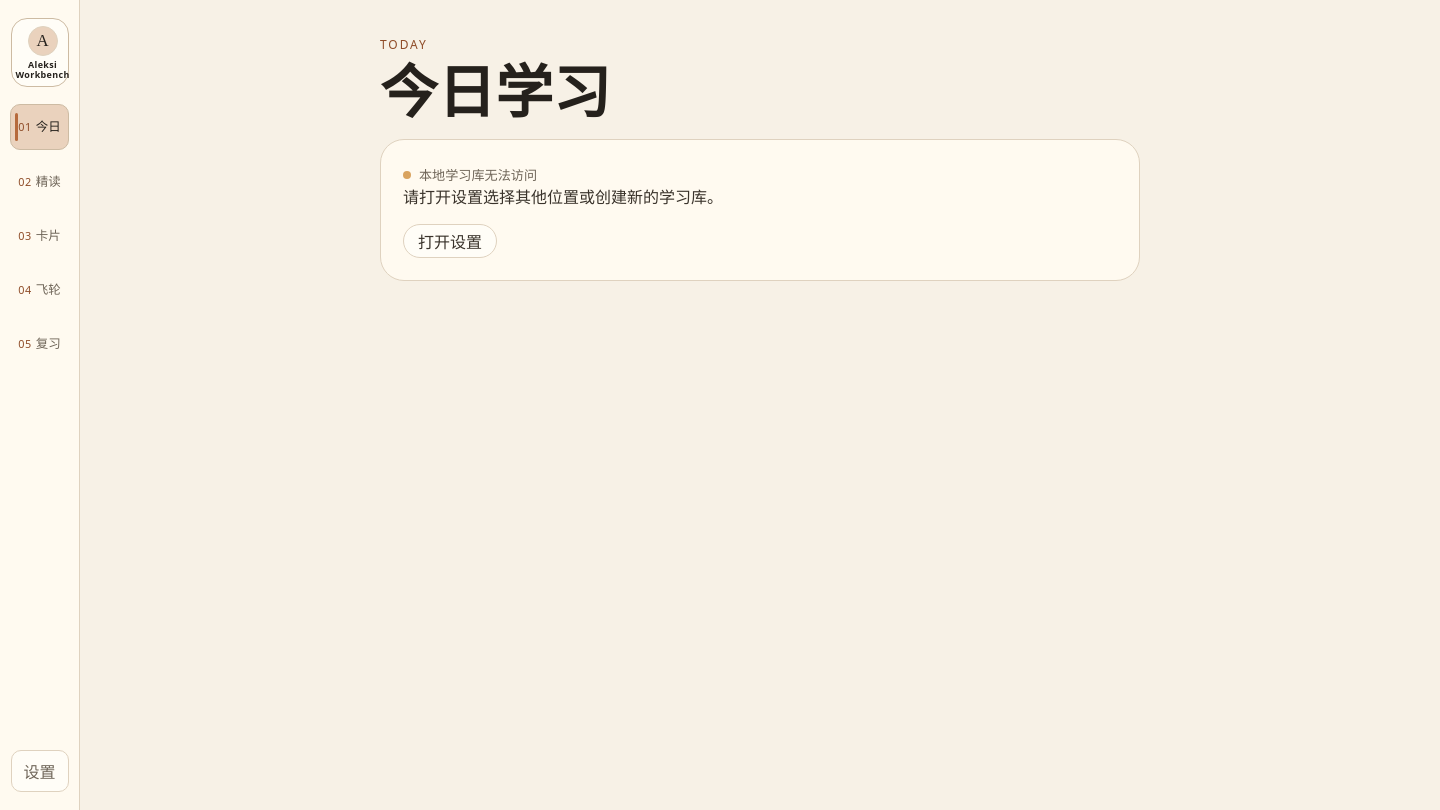
Test case: Today and Settings surfaces › shows a plain recovery message when auto-prepare fails
The image size is (1440, 810).
Expected: the text "本地学习库无法访问" is shown, top-left (419, 165), bottom-right (537, 184)
Expected: the text "请打开设置选择其他位置或创建新的学习库。" is shown, top-left (403, 186), bottom-right (723, 208)
Click the button "打开设置": click(450, 241) top-left (403, 224), bottom-right (497, 258)
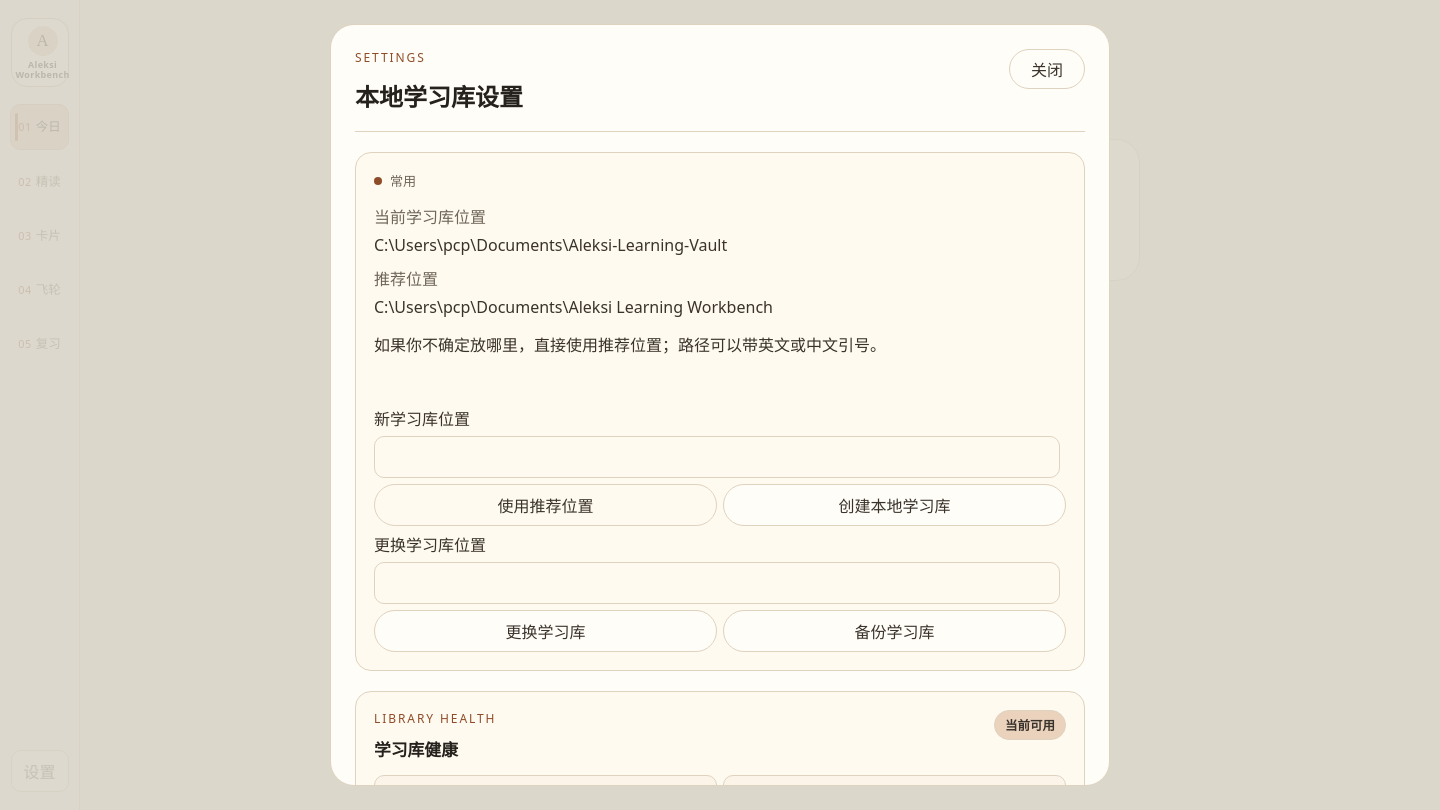
Expected: the dialog "本地学习库设置" is shown
